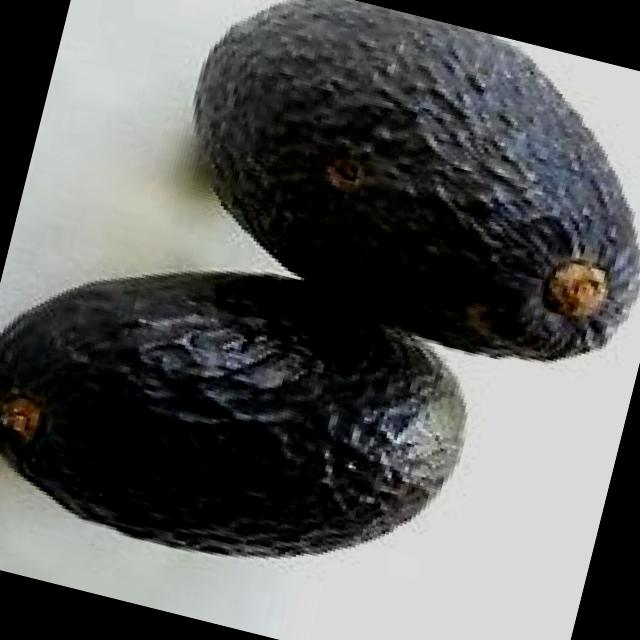avocado: (0, 215, 490, 613), (142, 0, 640, 385)
